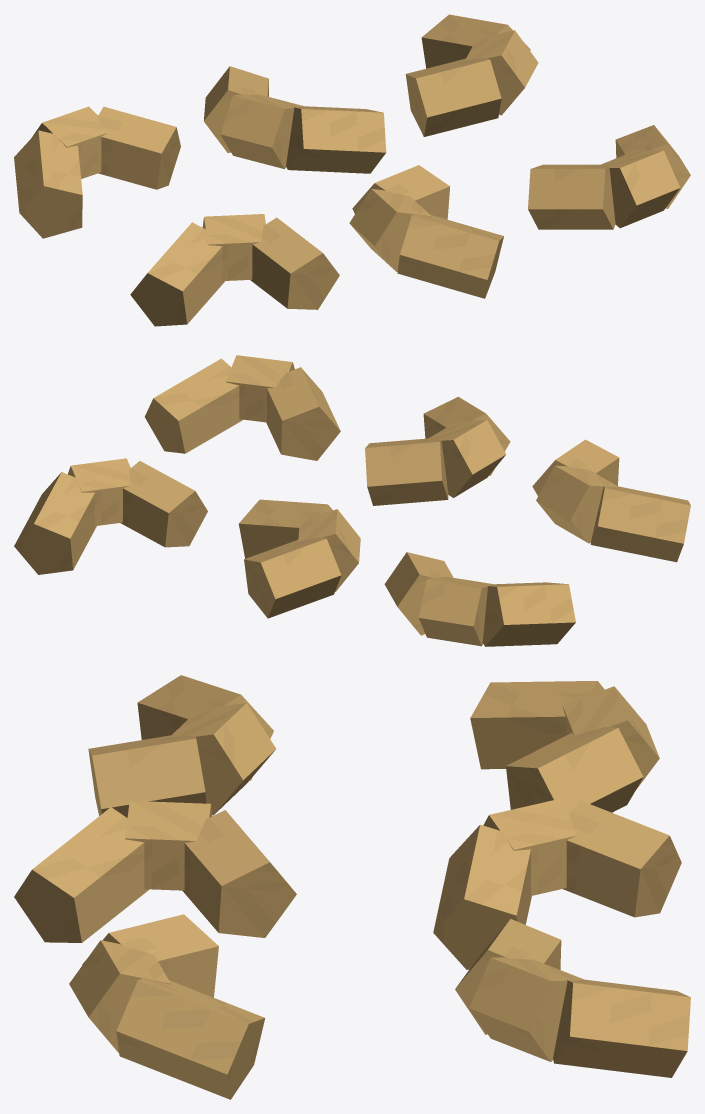
Rendered from macaroni_raw.glb.
3 renders of one model, top to bottom at view 1: azimuth 30°, elevation 25°; view 2: azimuth 150°, elevation 25°; view 3: azimuth 270°, elevation 25°, orthographic. The views are drawn at different scales.
Parts seen in each view (by area): view 1: block_curved pasta 0 (×6), block_curved pasta 2 (×6), block_curved pasta 1 (×6); view 2: block_curved pasta 0 (×6), block_curved pasta 2 (×6), block_curved pasta 1 (×6); view 3: block_curved pasta 0 (×6), block_curved pasta 2 (×6), block_curved pasta 1 (×6).
Part boxes in pixels (box(x1,y1,x2,y2)): block_curved pasta 0 (×6): box(14, 14, 690, 326); block_curved pasta 2 (×6): box(97, 57, 615, 309); block_curved pasta 1 (×6): box(32, 30, 680, 280); block_curved pasta 0 (×6): box(14, 358, 690, 646); block_curved pasta 2 (×6): box(120, 367, 619, 635); block_curved pasta 1 (×6): box(68, 355, 619, 646); block_curved pasta 0 (×6): box(14, 675, 690, 1099); block_curved pasta 2 (×6): box(82, 727, 681, 1034); block_curved pasta 1 (×6): box(69, 686, 659, 1061).
Size of the model in its own units: 0.064 by 0.00858 by 0.0504.
Materials: 1 (1 with a texture image).
